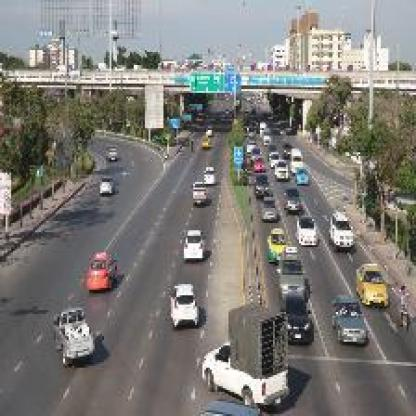other: (355, 258, 387, 308), (81, 244, 109, 288)
